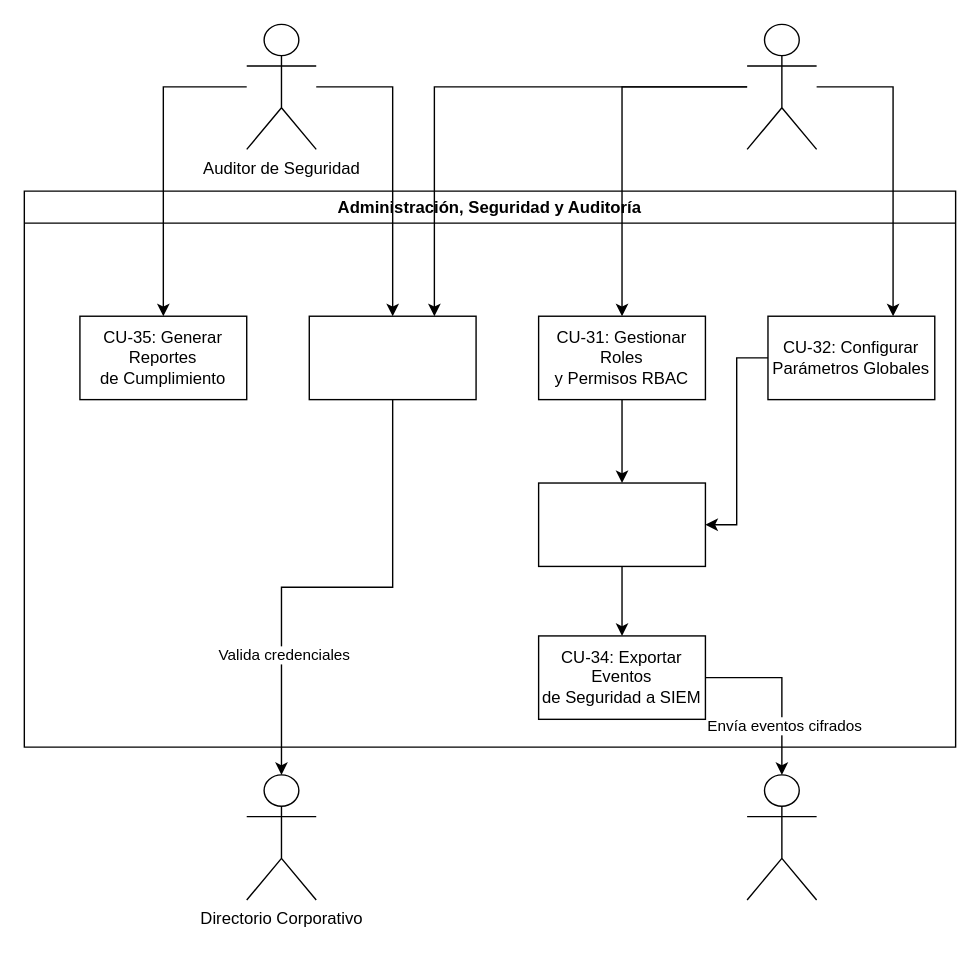
Image size: 980x954. Some labels were removed from this diagram. Each missing label, with the box of its shape:
Administrador del Sistema: (746, 23, 817, 149)
CU-30: Autenticar Personal Operativo: (308, 315, 476, 400)
CU-33: Registrar Logs de Auditoría: (537, 482, 705, 566)
Servidor SIEM: (746, 774, 817, 900)
